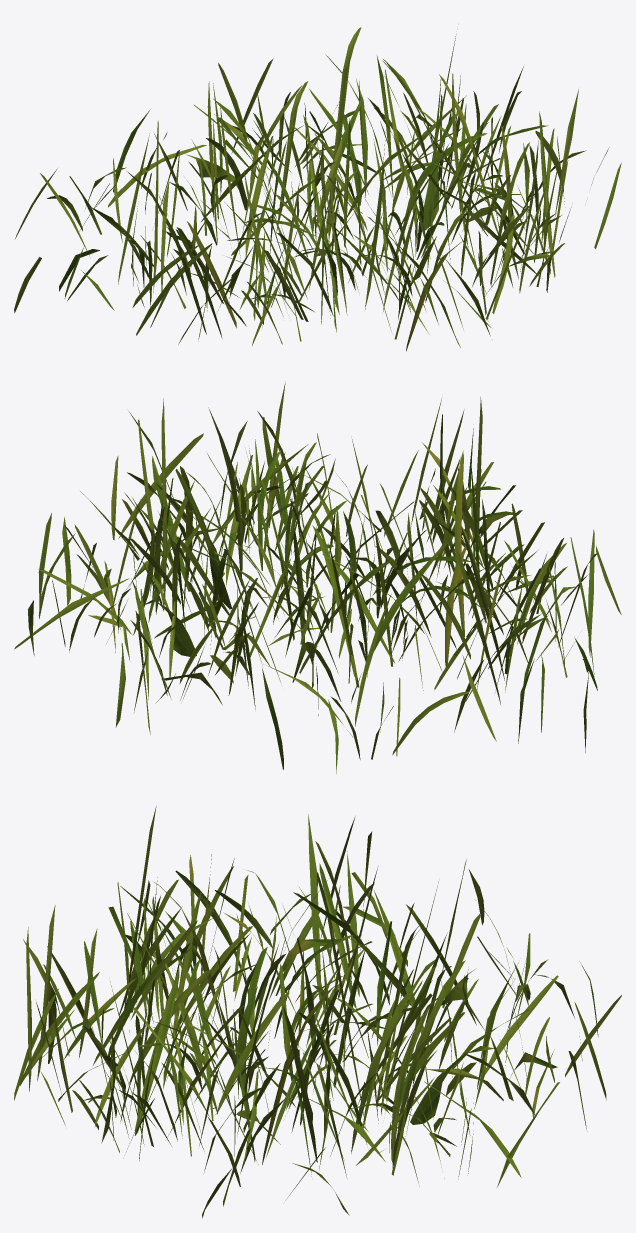
Rendered from Grass_Duo_02.glb.
3 renders of one model, top to bottom at view 1: azimuth 30°, elevation 25°; view 2: azimuth 150°, elevation 25°; view 3: azimuth 270°, elevation 25°, orthographic. The views are drawn at different scales.
Visible parts, largest first — view 1: Grass_Duo_02; view 2: Grass_Duo_02; view 3: Grass_Duo_02.
Part boxes in pixels (left/top/right/bottom): Grass_Duo_02: left=14, top=27, right=621, bottom=351; Grass_Duo_02: left=14, top=381, right=621, bottom=773; Grass_Duo_02: left=14, top=806, right=621, bottom=1218.
Bounding box in the file's own units: 0.4588 × 0.18 × 0.389.
Materials: 1 (1 with a texture image).
